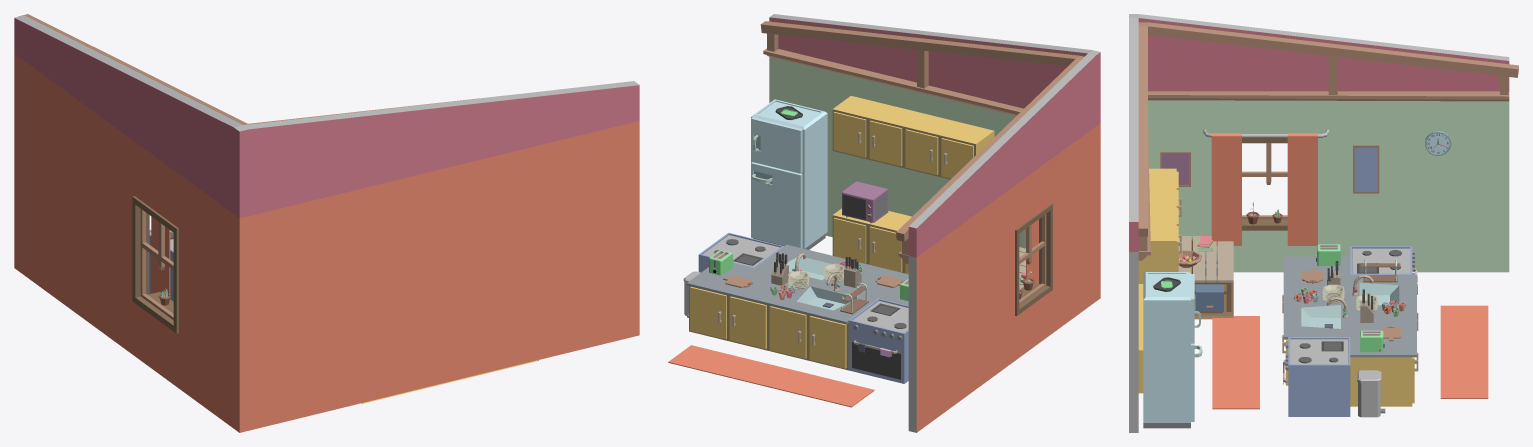
File: kitchenNoFloor.glb
The picture shows the model from 3 angles, left to right: view 1: azimuth 30°, elevation 25°; view 2: azimuth 150°, elevation 25°; view 3: azimuth 270°, elevation 25°; orthographic projection. The views are drawn at different scales.
Visible parts, largest first — view 1: Wall, Winow; view 2: Wall, Sink, Refrigerator, Sink.001, Plane, GasRange, Sink.004, Winow, Sink.003, GasRange.001, Oven, Toaster (+4 smaller); view 3: Wall, Winow, Refrigerator, Sink, GasRange.001, Plane, Sink.003, Plane.001, Table, Sink.001, Painting, GasRange (+7 smaller).
Part boxes in pixels (<box>): Wall: <box>14,14,639,432</box>; Winow: <box>132,196,178,333</box>; Wall: <box>760,14,1100,432</box>; Sink: <box>686,263,877,370</box>; Refrigerator: <box>751,99,827,249</box>; Sink.001: <box>832,96,993,179</box>; Plane: <box>668,345,874,407</box>; GasRange: <box>848,298,908,383</box>; Sink.004: <box>832,208,911,274</box>; Winow: <box>1015,203,1052,316</box>; Sink.003: <box>754,244,908,305</box>; GasRange.001: <box>698,232,783,272</box>; Oven: <box>842,181,888,223</box>; Toaster: <box>709,250,732,275</box>; Wall: <box>1129,14,1518,432</box>; Winow: <box>1203,129,1329,245</box>; Refrigerator: <box>1143,272,1202,428</box>; Sink: <box>1350,274,1418,406</box>; GasRange.001: <box>1283,337,1350,416</box>; Plane: <box>1440,305,1488,398</box>; Sink.003: <box>1282,256,1350,385</box>; Plane.001: <box>1212,316,1259,409</box>; Table: <box>1178,236,1233,319</box>; Sink.001: <box>1149,168,1181,242</box>; Painting: <box>1160,145,1379,193</box>; GasRange: <box>1350,246,1417,294</box>.
Bounding box in the file's own units: 8.35 × 5.94 × 8.2.
Materials: 1 (1 with a texture image).
